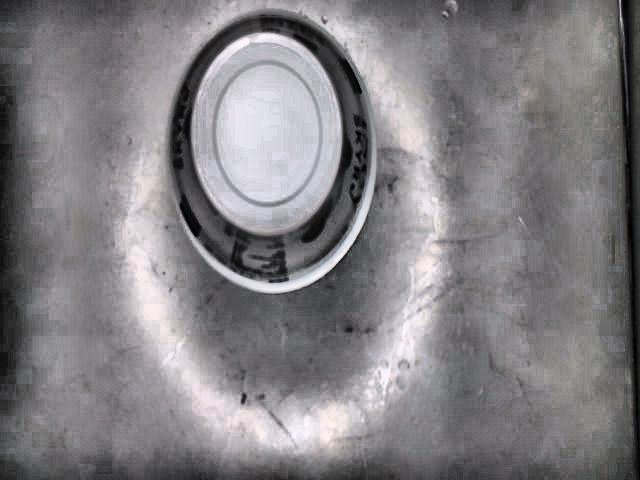Plastic: (165, 10, 377, 299)
